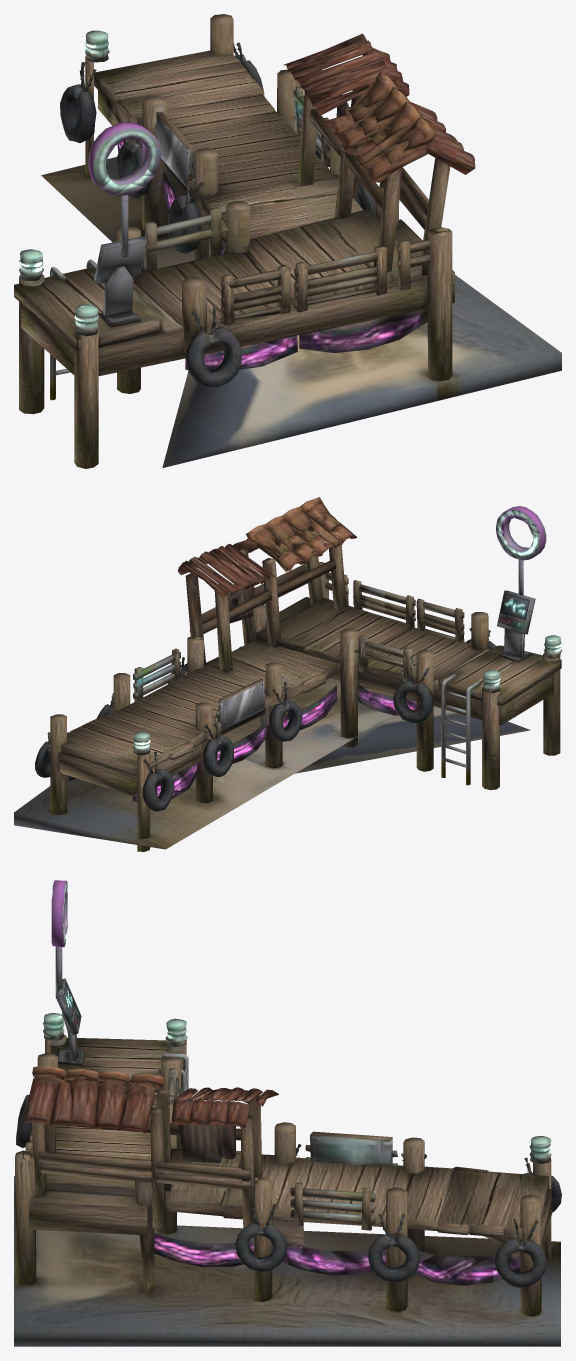
Rendered from jetty.glb.
The picture shows the model from 3 angles, top to bottom: view 1: azimuth 30°, elevation 25°; view 2: azimuth 150°, elevation 25°; view 3: azimuth 270°, elevation 25°; orthographic projection. The views are drawn at different scales.
Parts seen in each view (by area): view 1: Body, Glow; view 2: Body, Glow; view 3: Body, Glow.
Boxes of the visible parts, x1=… form: Body: x1=14, y1=14, x2=561, y2=468; Glow: x1=19, y1=40, x2=297, y2=369; Body: x1=14, y1=497, x2=561, y2=851; Glow: x1=133, y1=510, x2=561, y2=801; Body: x1=14, y1=880, x2=561, y2=1346; Glow: x1=63, y1=881, x2=551, y2=1282.
Bounding box in the file's own units: 3 × 2.03 × 3.51.
2 materials, 2 textured.
